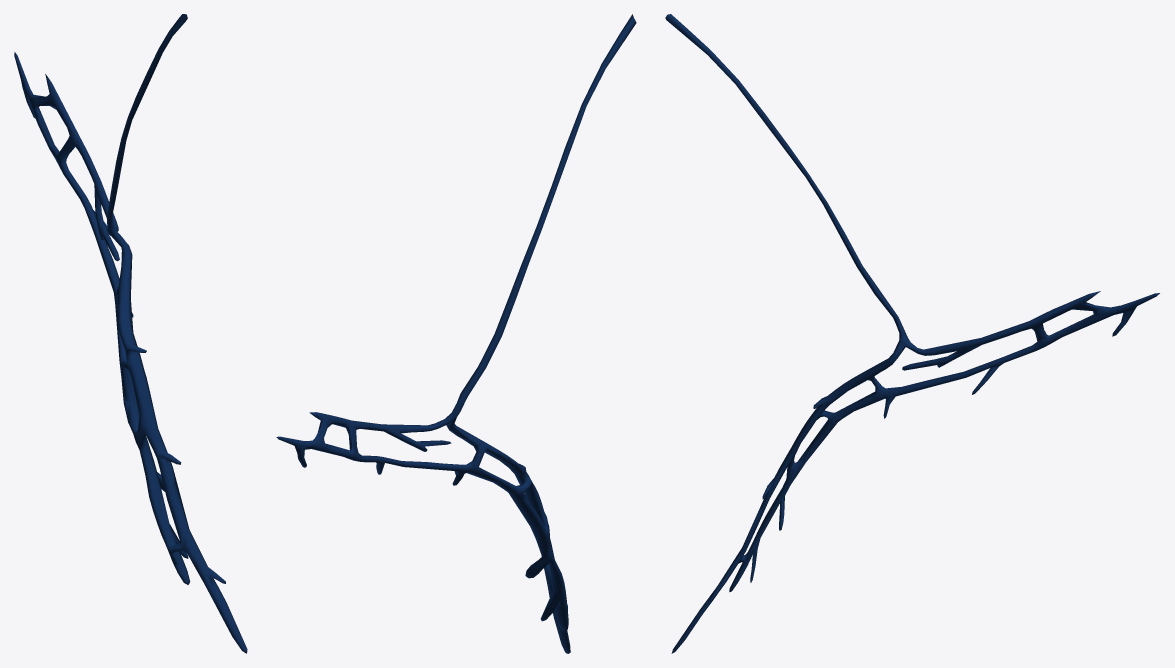
File: R vena uterina.fbx
The picture shows the model from 3 angles, left to right: view 1: azimuth 30°, elevation 25°; view 2: azimuth 150°, elevation 25°; view 3: azimuth 270°, elevation 25°; orthographic projection. The views are drawn at different scales.
Parts seen in each view (by area): view 1: R vena uterina low, R vena uterina; view 2: R vena uterina, R vena uterina low; view 3: R vena uterina low, R vena uterina.
Part boxes in pixels (left/top/right/bottom): R vena uterina low: left=15, top=14, right=246, bottom=650; R vena uterina: left=14, top=15, right=247, bottom=653; R vena uterina: left=276, top=14, right=635, bottom=653; R vena uterina low: left=282, top=16, right=636, bottom=651; R vena uterina low: left=665, top=18, right=1155, bottom=651; R vena uterina: left=665, top=14, right=1159, bottom=653.
Bounding box in the file's own units: 3.32 × 21.2 × 15.57.
